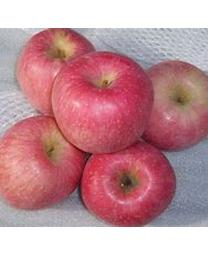apple: (50, 50, 153, 154), (0, 114, 86, 209), (79, 140, 175, 224), (14, 28, 96, 115), (142, 59, 207, 150)
